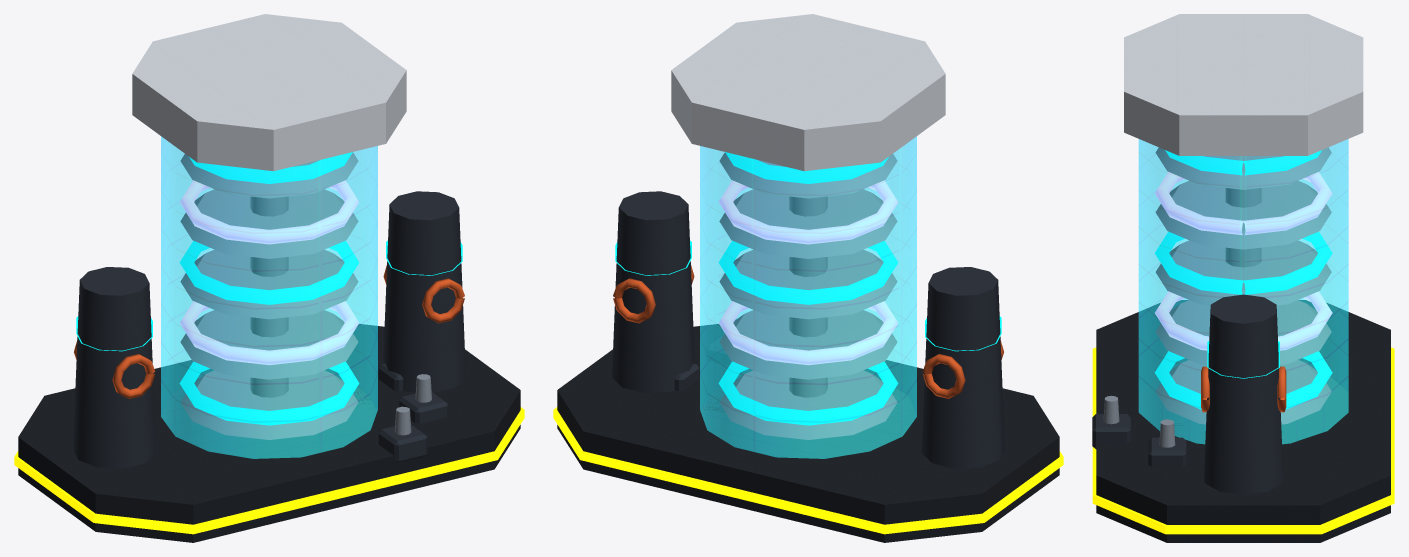
The model's file is prop_03_r1_01.glb.
3 views of the same model, side by side, from view 1: azimuth 30°, elevation 25°; view 2: azimuth 150°, elevation 25°; view 3: azimuth 270°, elevation 25° (orthographic).
Parts seen in each view (by area): view 1: Prop03_C01_glass_cyan, Prop03_C01_gunmetal, Prop03_C01_aero_white, Prop03_C01_steel_machined, Prop03_C01_carbon_slate, Prop03_C01_led_cyan, Prop03_C01_led_uv, Prop03_C01_led_amber, Prop03_C01_accent_orange; view 2: Prop03_C01_glass_cyan, Prop03_C01_gunmetal, Prop03_C01_aero_white, Prop03_C01_steel_machined, Prop03_C01_carbon_slate, Prop03_C01_led_cyan, Prop03_C01_led_uv, Prop03_C01_led_amber, Prop03_C01_accent_orange; view 3: Prop03_C01_glass_cyan, Prop03_C01_gunmetal, Prop03_C01_aero_white, Prop03_C01_steel_machined, Prop03_C01_carbon_slate, Prop03_C01_led_cyan, Prop03_C01_led_uv, Prop03_C01_led_amber, Prop03_C01_accent_orange.
Boxes of the visible parts, <box> form: Prop03_C01_glass_cyan: <box>161,136,377,458</box>; Prop03_C01_gunmetal: <box>18,324,520,542</box>; Prop03_C01_aero_white: <box>132,14,406,171</box>; Prop03_C01_steel_machined: <box>180,153,431,439</box>; Prop03_C01_carbon_slate: <box>73,191,465,468</box>; Prop03_C01_led_cyan: <box>76,152,462,425</box>; Prop03_C01_led_uv: <box>180,180,358,365</box>; Prop03_C01_led_amber: <box>14,407,524,534</box>; Prop03_C01_accent_orange: <box>74,265,464,398</box>; Prop03_C01_glass_cyan: <box>700,136,916,458</box>; Prop03_C01_gunmetal: <box>557,324,1059,542</box>; Prop03_C01_aero_white: <box>671,14,945,171</box>; Prop03_C01_steel_machined: <box>719,153,897,439</box>; Prop03_C01_carbon_slate: <box>612,191,1004,468</box>; Prop03_C01_led_cyan: <box>615,152,1001,425</box>; Prop03_C01_led_uv: <box>719,180,897,365</box>; Prop03_C01_led_amber: <box>553,407,1063,534</box>; Prop03_C01_accent_orange: <box>613,265,1003,398</box>; Prop03_C01_glass_cyan: <box>1138,139,1348,444</box>; Prop03_C01_gunmetal: <box>1096,300,1390,542</box>; Prop03_C01_aero_white: <box>1124,14,1363,155</box>; Prop03_C01_steel_machined: <box>1103,147,1331,447</box>; Prop03_C01_carbon_slate: <box>1092,294,1282,494</box>; Prop03_C01_led_cyan: <box>1155,150,1332,409</box>; Prop03_C01_led_uv: <box>1155,172,1332,350</box>; Prop03_C01_led_amber: <box>1092,347,1394,534</box>; Prop03_C01_accent_orange: <box>1201,366,1286,412</box>.
Bounding box in the file's own units: 2.84 × 2.39 × 1.74.
Materials: 9 (9 with a texture image).
